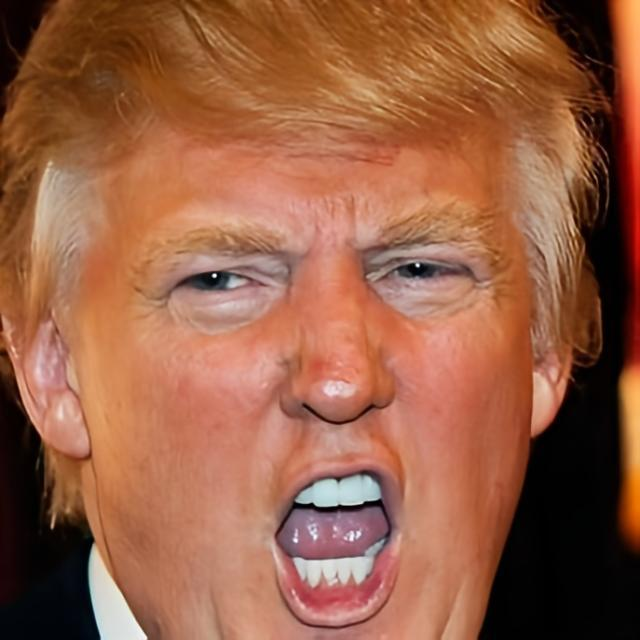anger: (97, 116, 536, 640)
